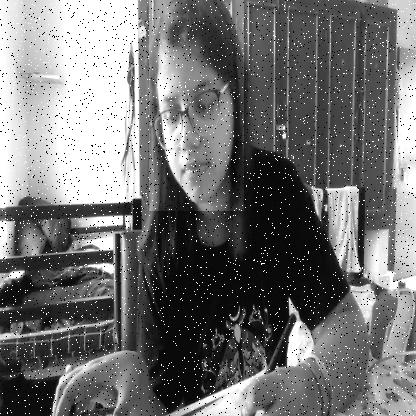Distracted: (149, 0, 244, 211)
